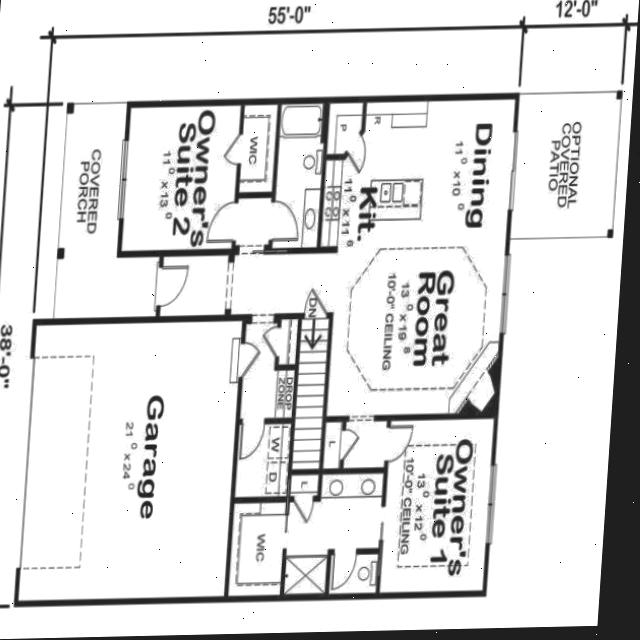room: (223, 82, 514, 427), (17, 307, 241, 615), (379, 412, 493, 599), (222, 471, 389, 596), (120, 98, 240, 259), (271, 101, 325, 252), (289, 317, 328, 498), (239, 322, 295, 420), (234, 421, 290, 500), (158, 255, 229, 316), (238, 102, 277, 195), (342, 418, 386, 471), (234, 196, 271, 255), (327, 554, 378, 595), (326, 100, 362, 157), (320, 159, 341, 248), (282, 558, 327, 595), (322, 421, 342, 470), (278, 318, 297, 365)
